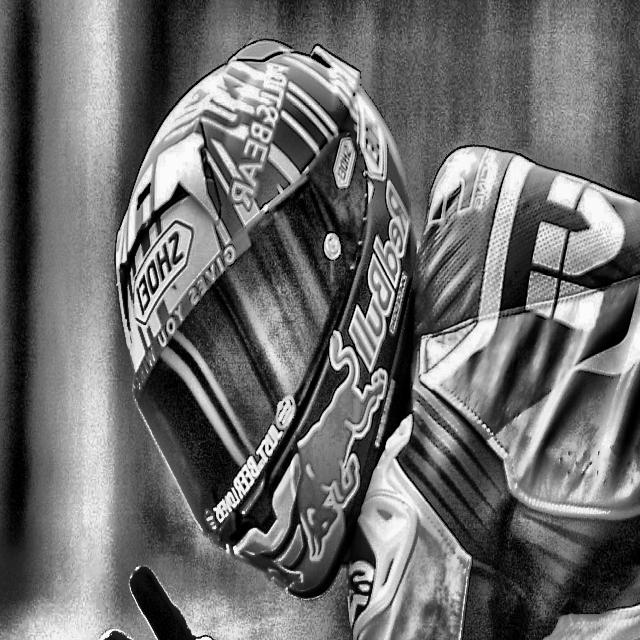Helmet: (109, 27, 418, 608)
